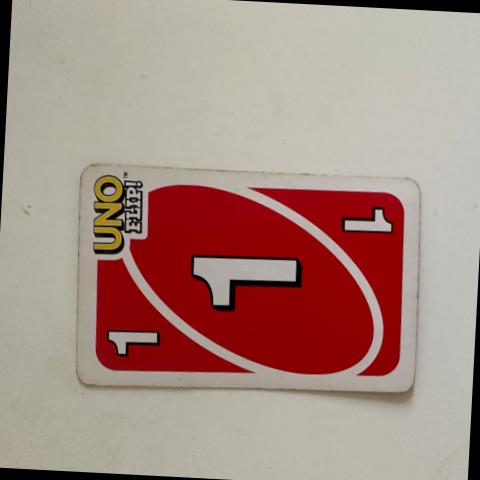lred-1: (86, 303, 180, 379)
